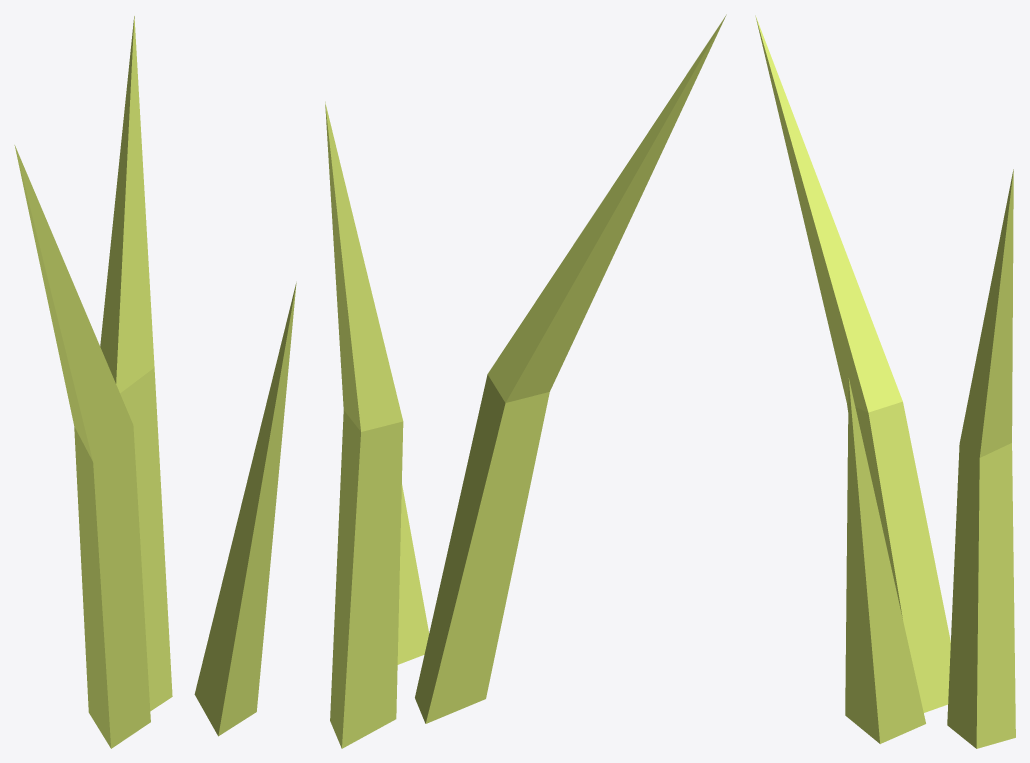
The model's file is Grass_E.fbx.
The picture shows the model from 3 angles, left to right: view 1: azimuth 30°, elevation 25°; view 2: azimuth 150°, elevation 25°; view 3: azimuth 270°, elevation 25°; orthographic projection. The views are drawn at different scales.
Parts seen in each view (by area): view 1: Grass3D_a_03; view 2: Grass3D_a_03; view 3: Grass3D_a_03.
Part boxes in pixels (<box>): Grass3D_a_03: <box>14,16,296,748</box>; Grass3D_a_03: <box>325,14,726,748</box>; Grass3D_a_03: <box>755,15,1015,748</box>.
Bounding box in the file's own units: 28.98 × 59.36 × 22.7.
